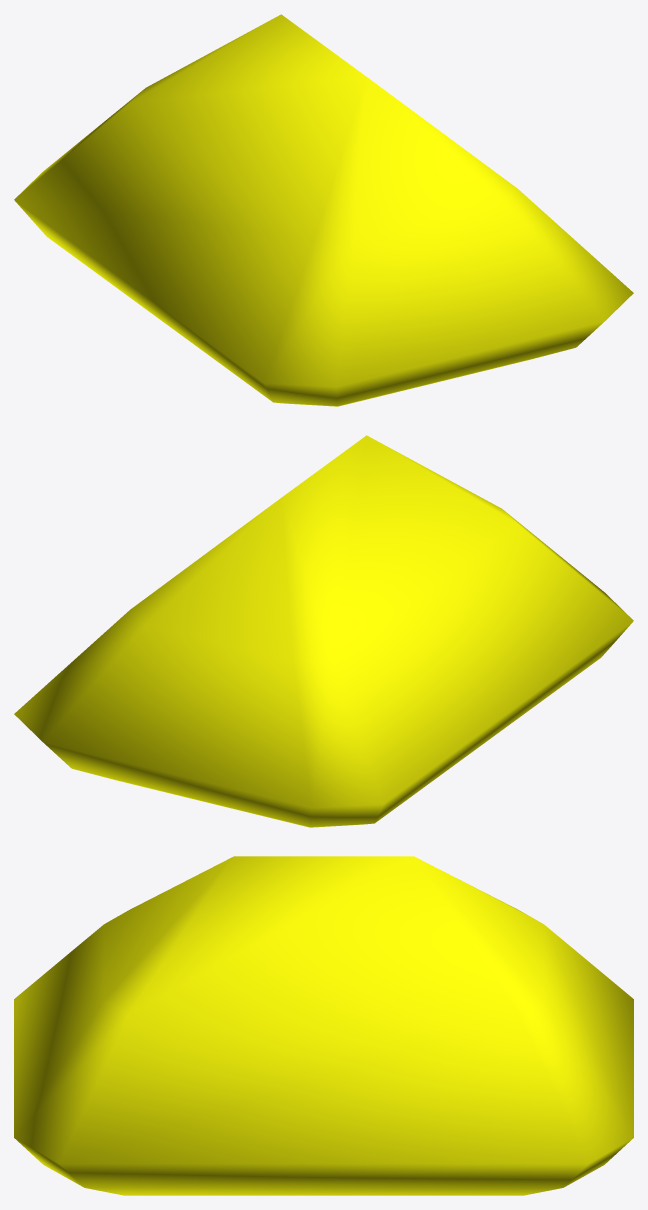
File: gems3.fbx
3 views of the same model, one above another, from view 1: azimuth 30°, elevation 25°; view 2: azimuth 150°, elevation 25°; view 3: azimuth 270°, elevation 25° (orthographic). The views are drawn at different scales.
Parts seen in each view (by area): view 1: EmeraldCut; view 2: EmeraldCut; view 3: EmeraldCut.
Boxes of the visible parts, <box> form: EmeraldCut: <box>14,14,633,406</box>; EmeraldCut: <box>14,435,633,827</box>; EmeraldCut: <box>14,856,633,1195</box>.
Bounding box in the file's own units: 27.01 × 17.89 × 37.18.
